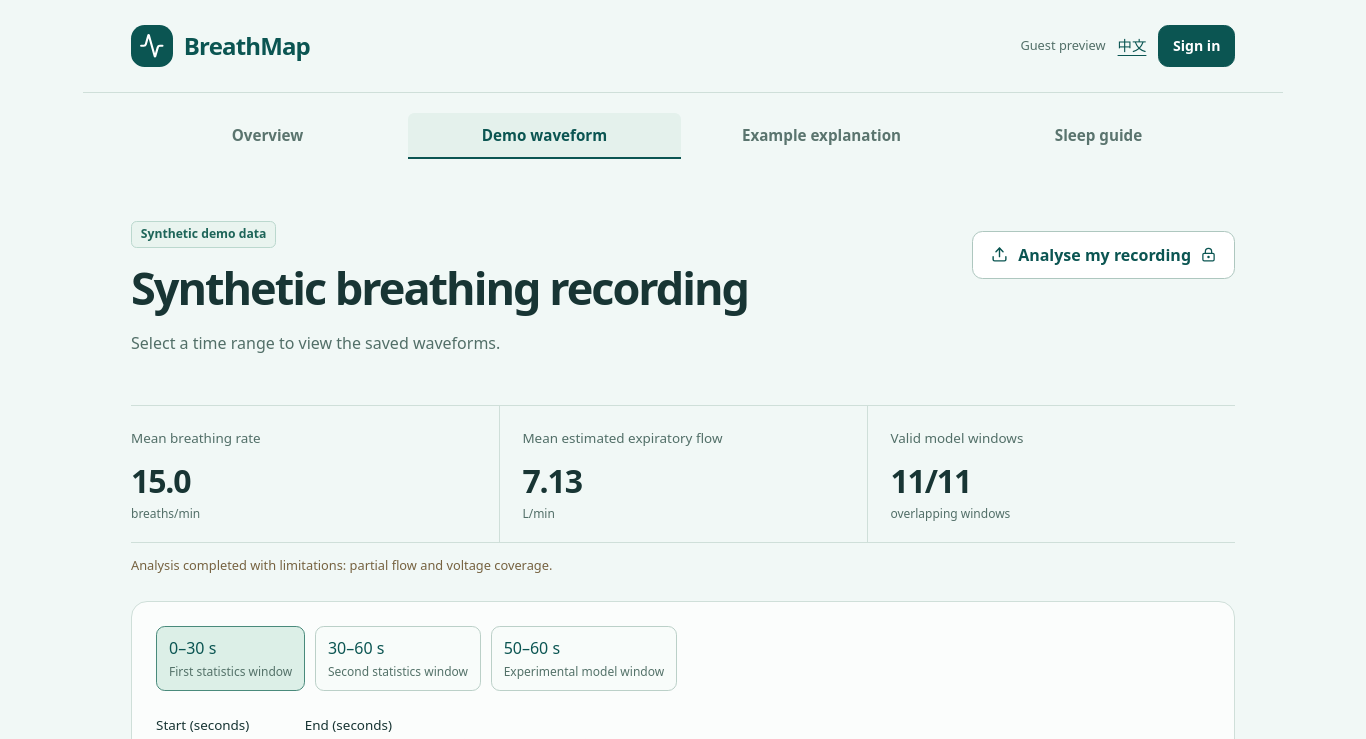
Scenario: public guest preview › gates waveform / Analyse my recording before any account action
The width and height of the screenshot is (1366, 739).
Click the button "Analyse my recording". click: (1104, 255)
box: [972, 231, 1235, 279]
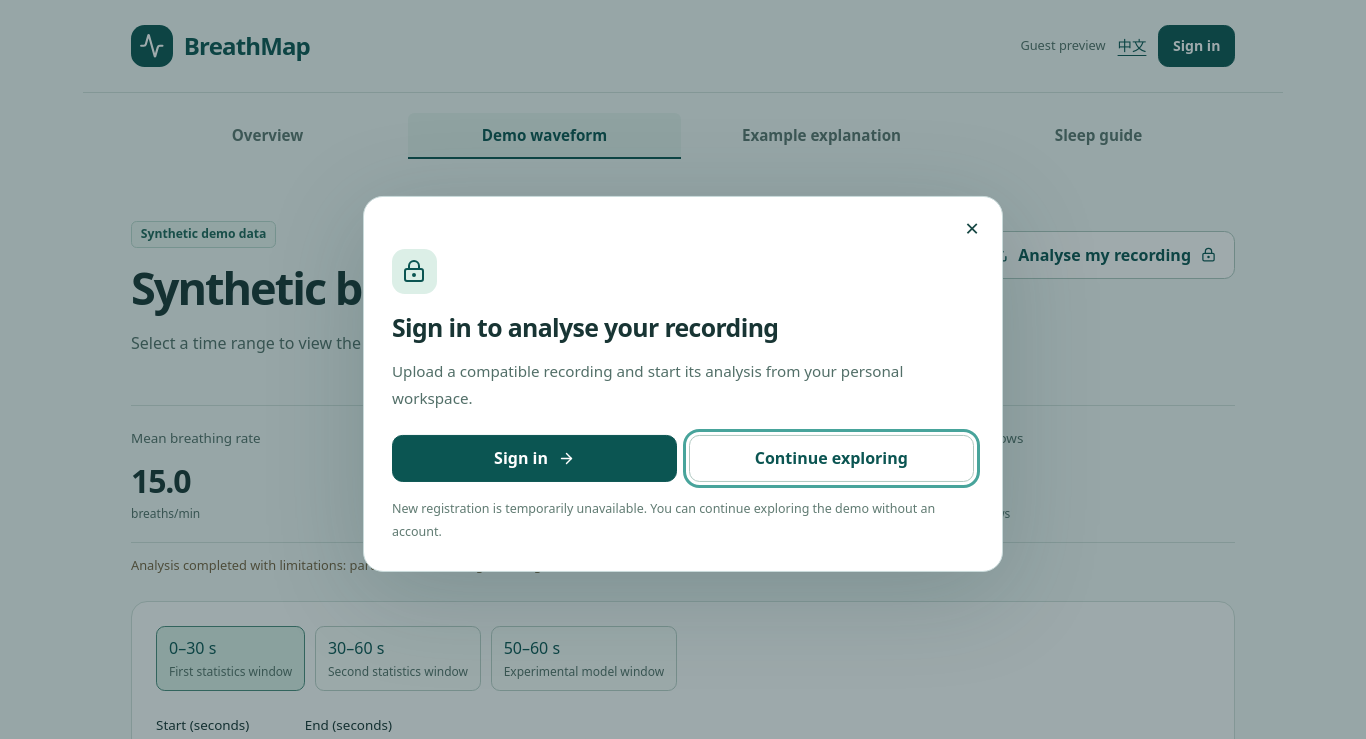
Now the dialog is shown, box [363, 196, 1003, 572]
Now the dialog shows "New registration is temporarily unavailable", box [392, 500, 935, 540]
Click the button "Continue exploring". click: (831, 458)
box: [689, 435, 974, 482]
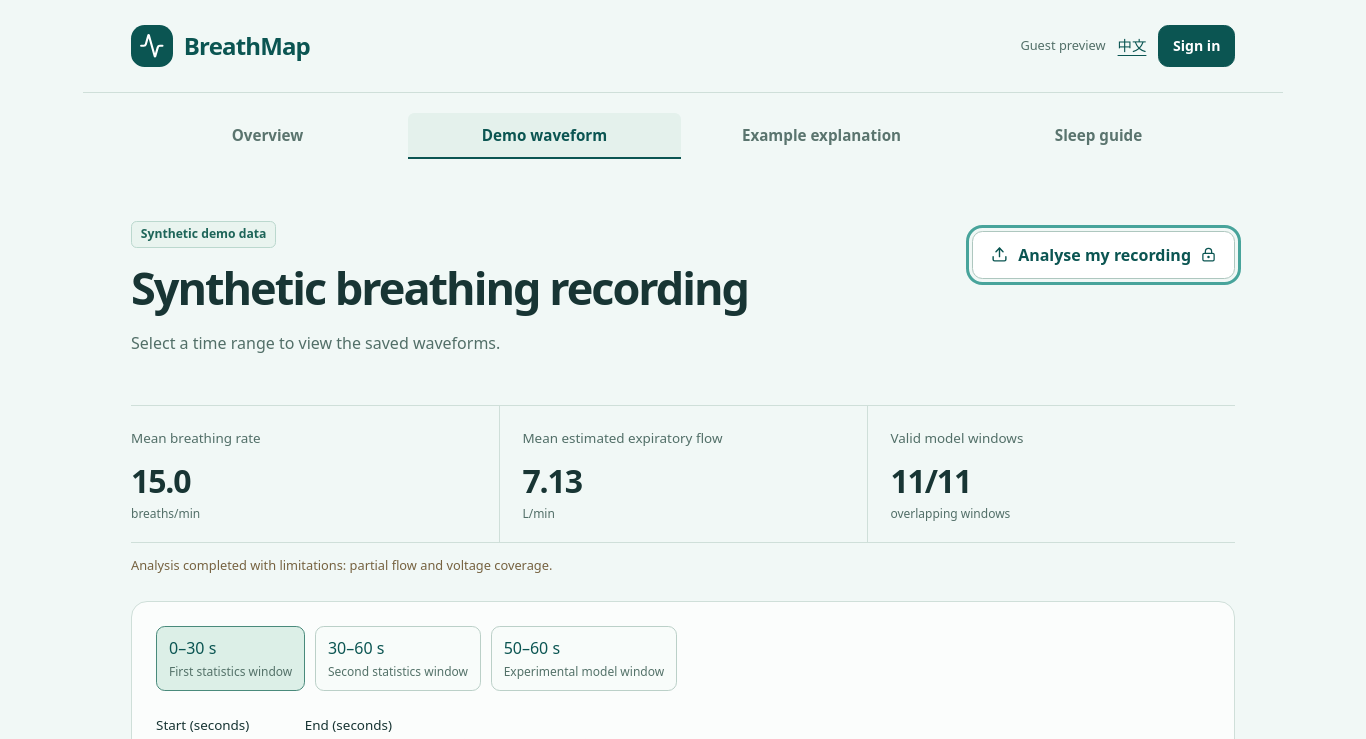
Now the button "×" is gone
